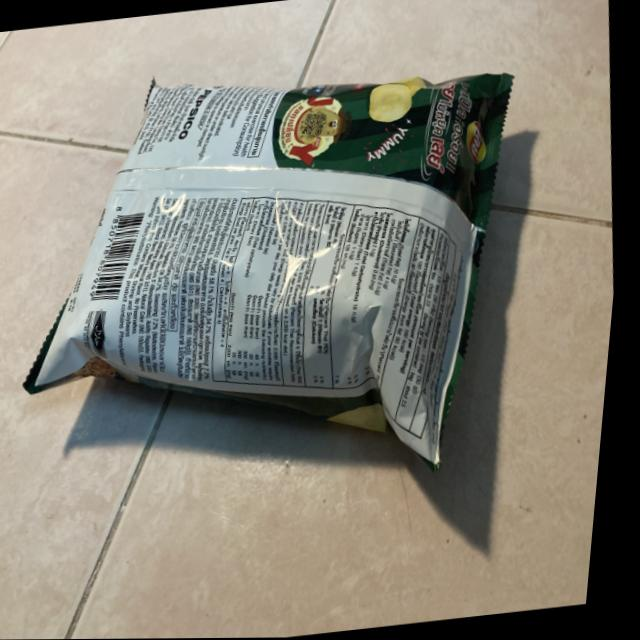Laygreen: (0, 31, 564, 540)
